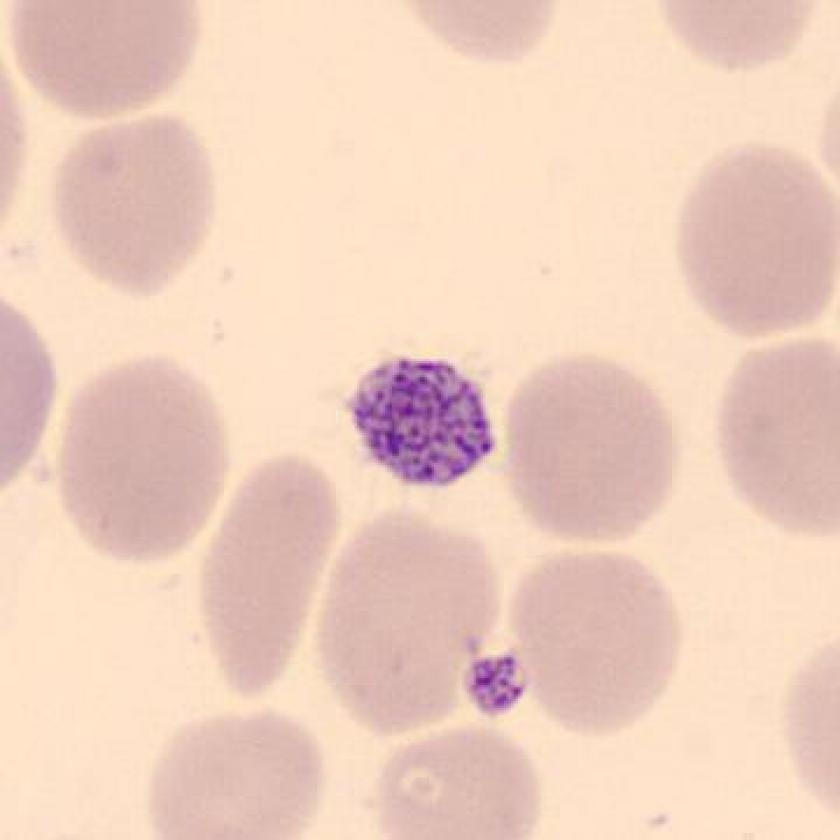platelets: (337, 348, 510, 510), (442, 635, 540, 732)
